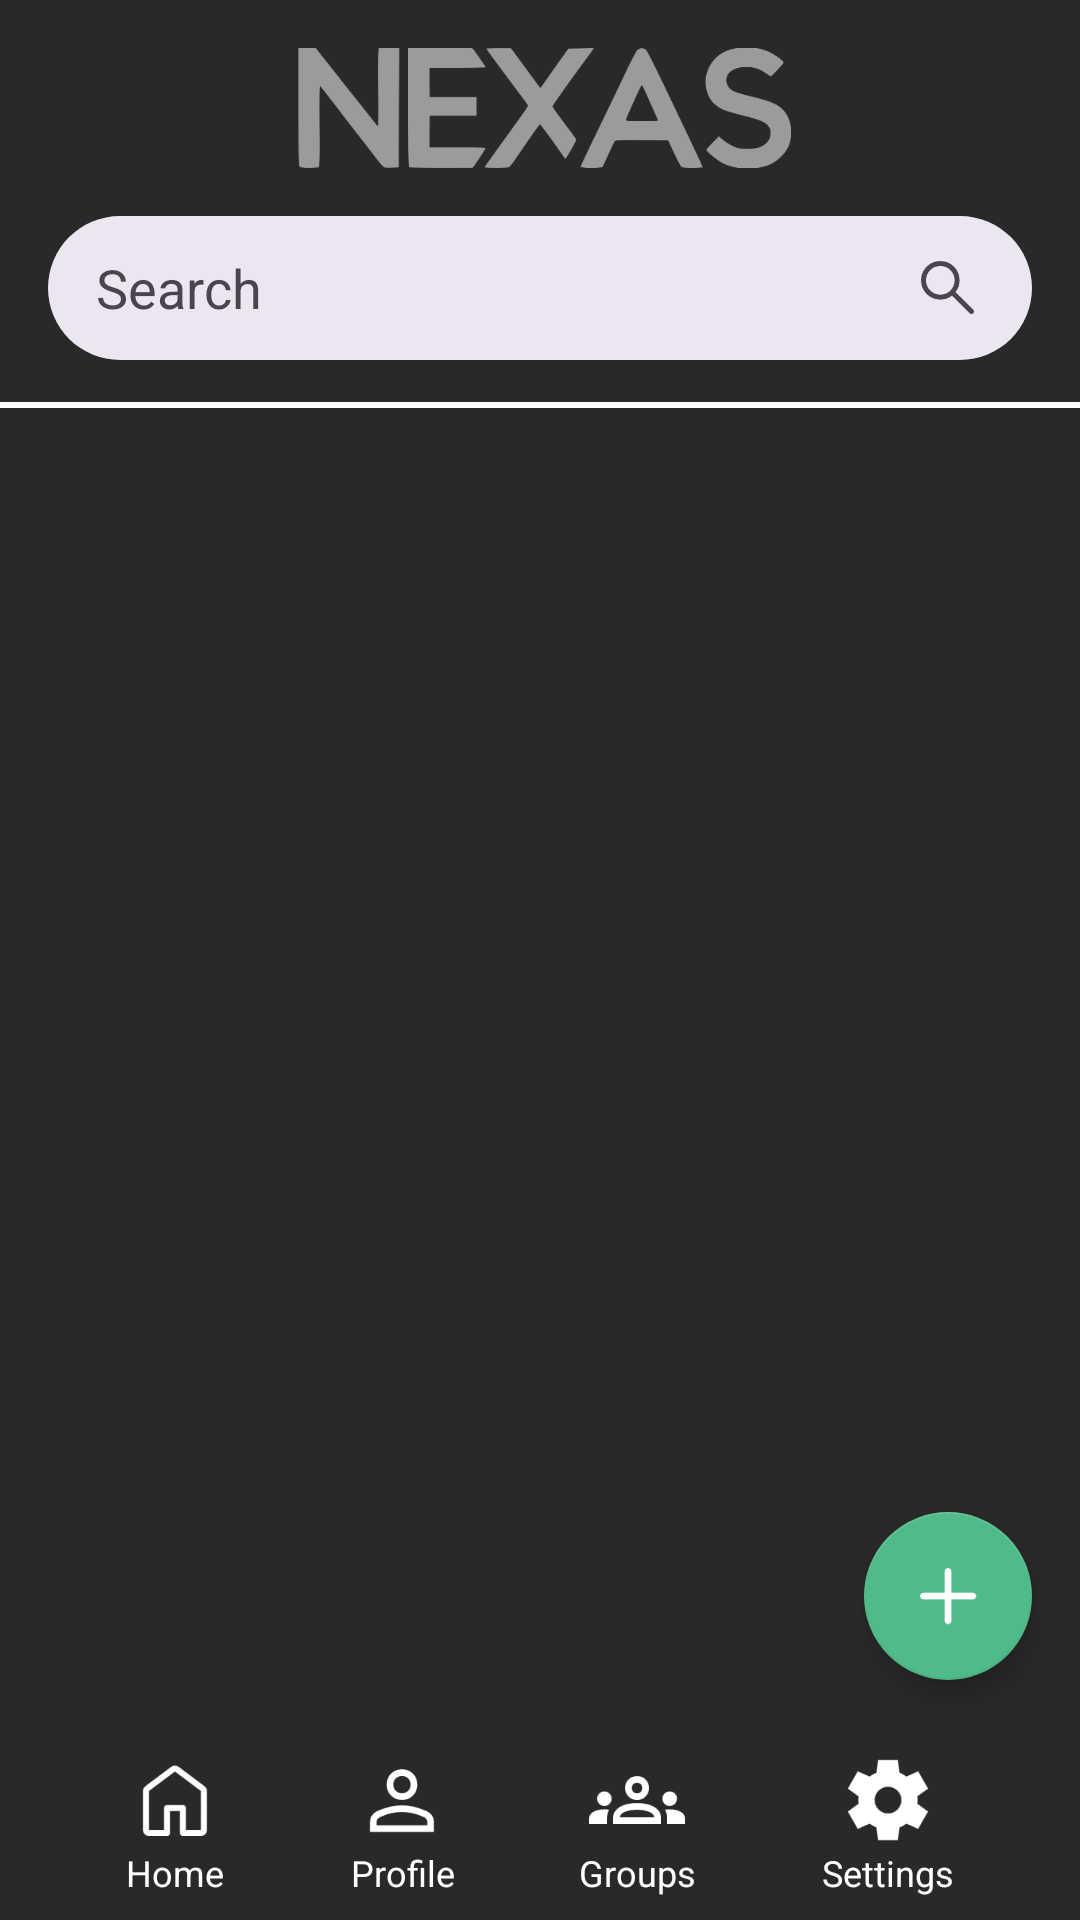

Where to tap for icons on this 1080px x 1920px app screen, as (x=x, y=y):
add: (x=948, y=1596)
